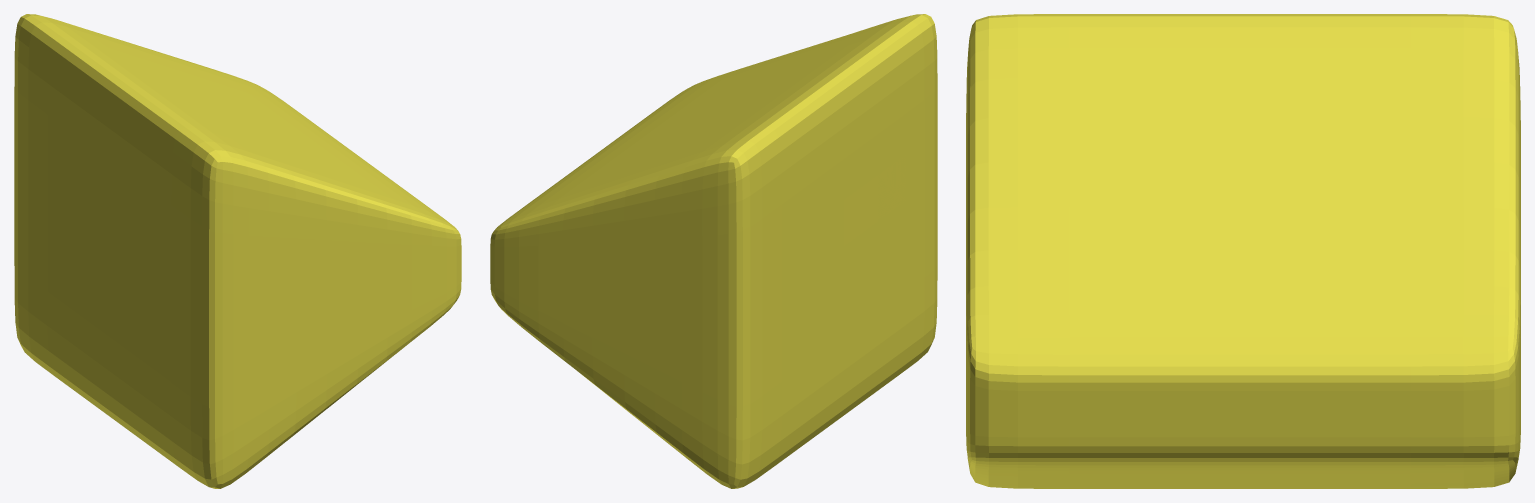
The model's file is next.fbx.
3 renders of one model, left to right at view 1: azimuth 30°, elevation 25°; view 2: azimuth 150°, elevation 25°; view 3: azimuth 270°, elevation 25°, orthographic. The views are drawn at different scales.
Parts seen in each view (by area): view 1: next; view 2: next; view 3: next.
Boxes of the visible parts, x1=… form: next: x1=14, y1=14, x2=461, y2=488; next: x1=490, y1=14, x2=937, y2=488; next: x1=966, y1=14, x2=1520, y2=488.
Bounding box in the file's own units: 15.95 × 20.02 × 21.49.
